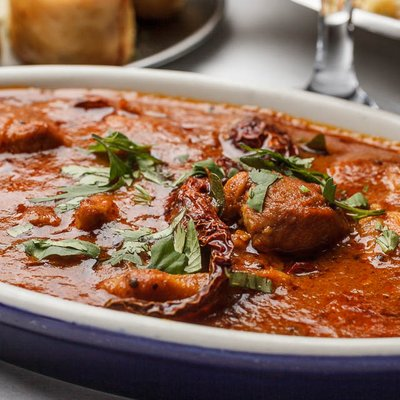sandwich: (0, 84, 400, 338), (298, 0, 381, 110)
